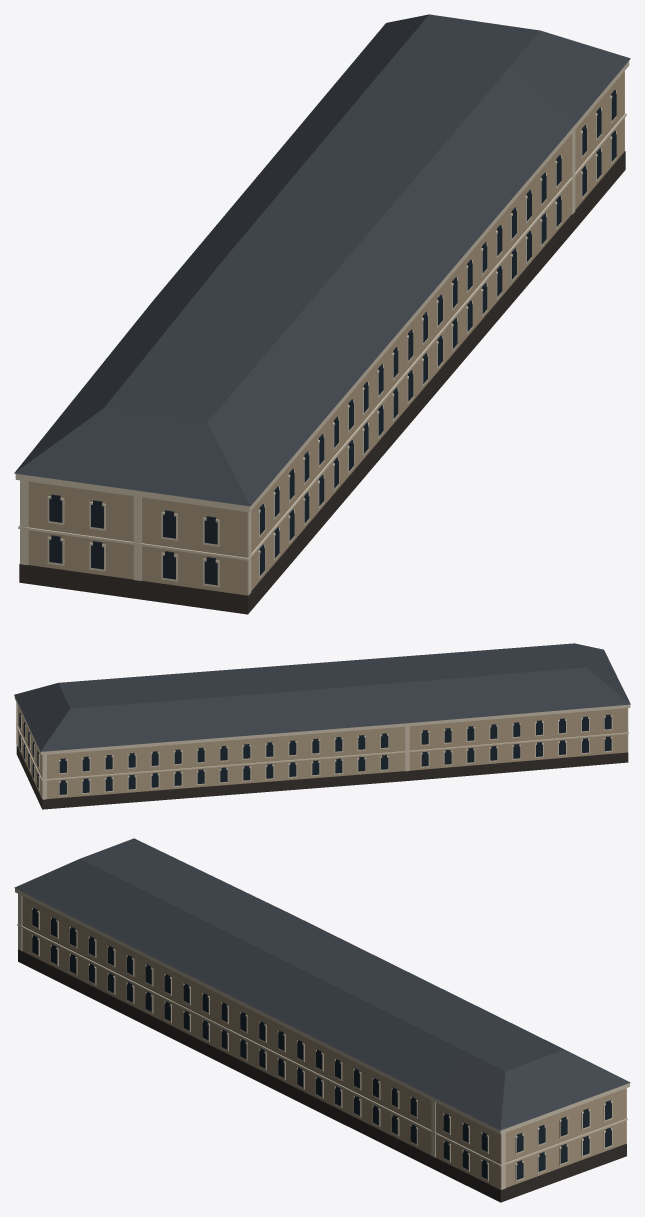
The model's file is kaserne-4.glb.
3 views of the same model, one above another, from view 1: azimuth 30°, elevation 25°; view 2: azimuth 150°, elevation 25°; view 3: azimuth 270°, elevation 25° (orthographic). The views are drawn at different scales.
Visible parts, largest first — view 1: kaserne-4_lod0; view 2: kaserne-4_lod0; view 3: kaserne-4_lod0.
Part boxes in pixels (bbox=[...]): kaserne-4_lod0: bbox=[14, 14, 630, 614]; kaserne-4_lod0: bbox=[14, 643, 630, 809]; kaserne-4_lod0: bbox=[14, 838, 630, 1202].
Size of what is drawn, in the model's own units: 84.19 by 14.2 by 75.8.
